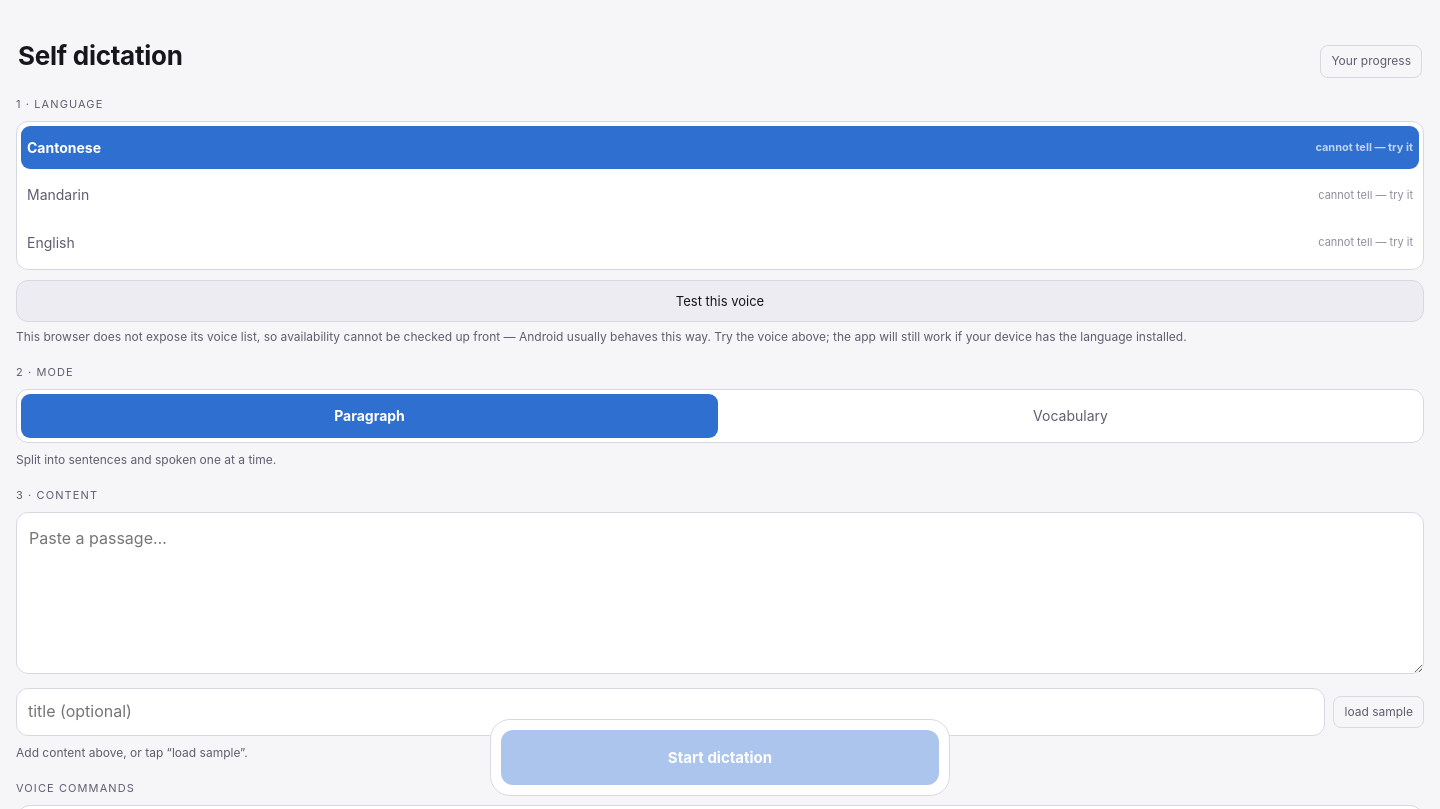
Test case: Setup › does not claim the voice played when the browser cut it short
This screenshot has width=1440, height=809.
Click the button "Test this voice": (720, 301) [16,280,1424,322]
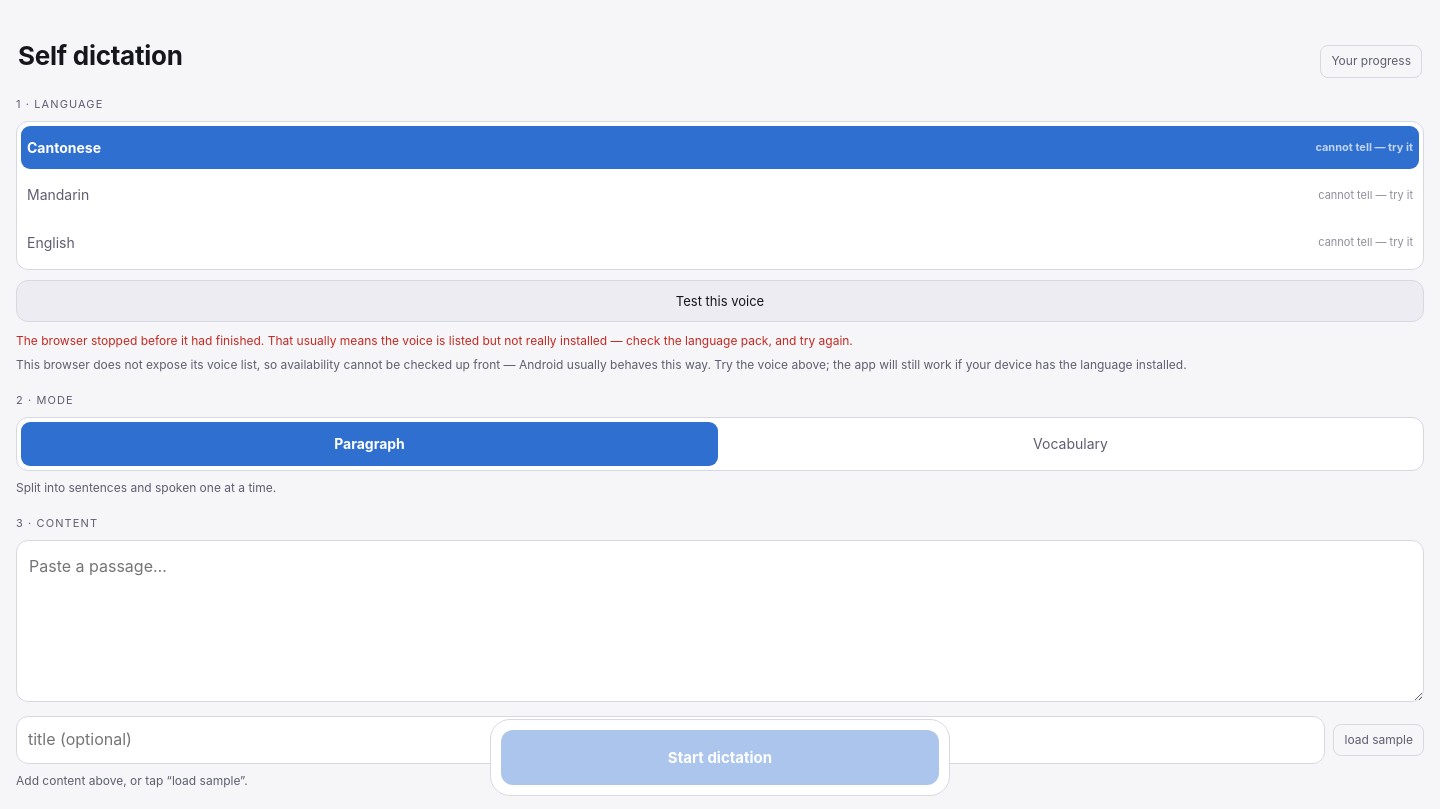
Check: the text "stopped before it had finished" is shown, box [16,333,853,348]
